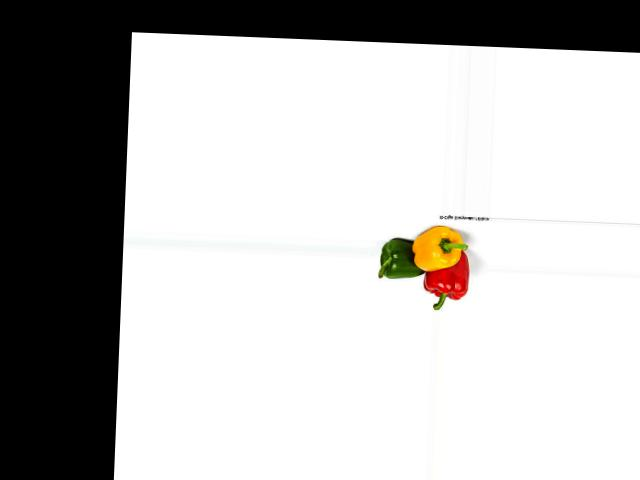bell_pepper: (422, 252, 474, 311)
